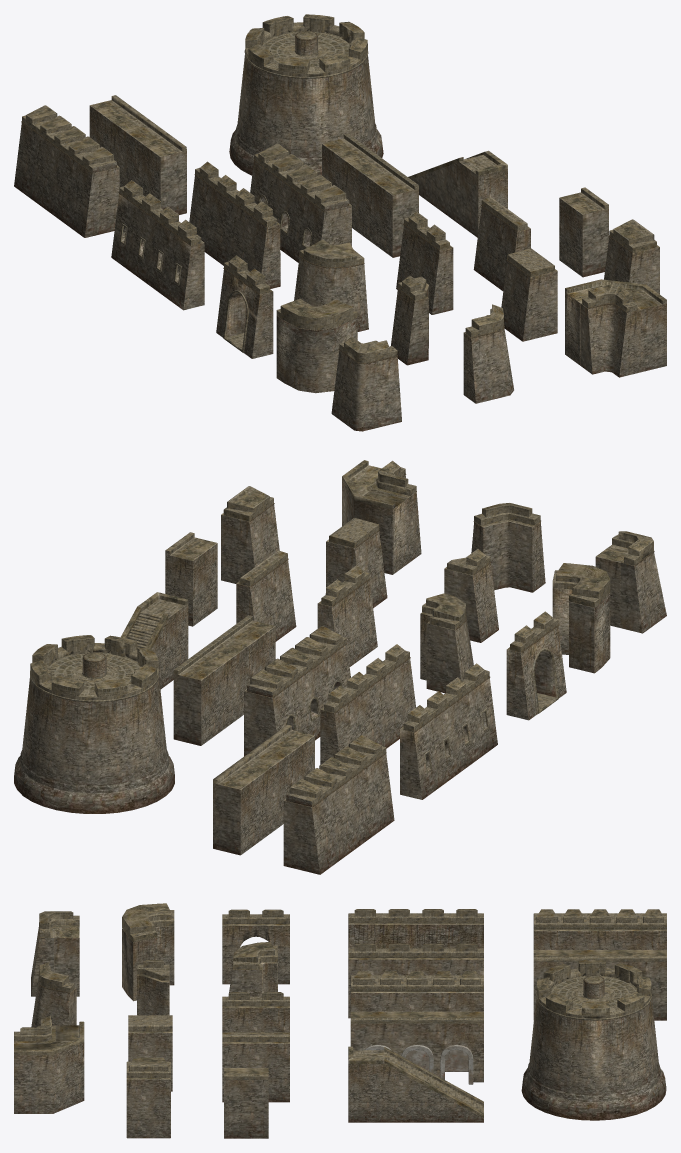
Rendered from fort.glb.
The picture shows the model from 3 angles, top to bottom: view 1: azimuth 30°, elevation 25°; view 2: azimuth 150°, elevation 25°; view 3: azimuth 270°, elevation 25°; orthographic projection. The views are drawn at different scales.
Visible parts, largest first — view 1: modular_fort_01_tower_round, modular_fort_01_wall_thick_straight_01, modular_fort_01_wall_thin_straight_02, modular_fort_01_wall_thick_straight_02, modular_fort_01_wall_thin_straight_01, modular_fort_01_wall_walkway_straight_01, modular_fort_01_wall_walkway_straight_02, modular_fort_01_wall_thick_corner_02, modular_fort_01_wall_thin_corner_02, modular_fort_01_wall_thin_corner_01, modular_fort_01_wall_stairs_straight_01, modular_fort_01_wall_thin_gate_01 (+9 smaller); view 2: modular_fort_01_tower_round, modular_fort_01_wall_thick_straight_01, modular_fort_01_wall_thin_straight_02, modular_fort_01_wall_walkway_straight_01, modular_fort_01_wall_walkway_straight_02, modular_fort_01_wall_thick_straight_02, modular_fort_01_wall_thin_straight_01, modular_fort_01_wall_thick_corner_02, modular_fort_01_wall_thin_corner_03, modular_fort_01_wall_thin_gate_01, modular_fort_01_wall_thick_corner_01, modular_fort_01_wall_thick_end_02 (+10 smaller); view 3: modular_fort_01_tower_round, modular_fort_01_wall_stairs_straight_01, modular_fort_01_wall_walkway_straight_01, modular_fort_01_wall_walkway_corner_01, modular_fort_01_wall_thick_straight_02, modular_fort_01_wall_thick_straight_01, modular_fort_01_wall_thin_straight_02, modular_fort_01_wall_thin_straight_01, modular_fort_01_wall_thick_end_02, modular_fort_01_wall_thick_corner_02, modular_fort_01_wall_walkway_straight_02, modular_fort_01_wall_thin_straight_03 (+10 smaller).
Part boxes in pixels (bbox=[...]): modular_fort_01_tower_round: bbox=[229, 14, 383, 175]; modular_fort_01_wall_thick_straight_01: bbox=[14, 105, 119, 237]; modular_fort_01_wall_thin_straight_02: bbox=[111, 180, 204, 310]; modular_fort_01_wall_thick_straight_02: bbox=[250, 143, 351, 262]; modular_fort_01_wall_thin_straight_01: bbox=[189, 161, 280, 288]; modular_fort_01_wall_walkway_straight_01: bbox=[322, 133, 418, 257]; modular_fort_01_wall_walkway_straight_02: bbox=[89, 95, 186, 214]; modular_fort_01_wall_thick_corner_02: bbox=[276, 298, 357, 393]; modular_fort_01_wall_thin_corner_02: bbox=[331, 336, 401, 431]; modular_fort_01_wall_thin_corner_01: bbox=[580, 284, 640, 377]; modular_fort_01_wall_stairs_straight_01: bbox=[408, 150, 507, 237]; modular_fort_01_wall_thin_gate_01: bbox=[216, 255, 273, 358]; modular_fort_01_tower_round: bbox=[14, 635, 174, 813]; modular_fort_01_wall_thick_straight_01: bbox=[283, 735, 394, 874]; modular_fort_01_wall_thin_straight_02: bbox=[400, 663, 497, 799]; modular_fort_01_wall_walkway_straight_01: bbox=[173, 615, 275, 745]; modular_fort_01_wall_walkway_straight_02: bbox=[213, 724, 314, 855]; modular_fort_01_wall_thick_straight_02: bbox=[244, 626, 350, 756]; modular_fort_01_wall_thin_straight_01: bbox=[320, 644, 415, 764]; modular_fort_01_wall_thick_corner_02: bbox=[552, 563, 610, 673]; modular_fort_01_wall_thin_corner_03: bbox=[471, 503, 545, 592]; modular_fort_01_wall_thin_gate_01: bbox=[506, 611, 566, 720]; modular_fort_01_wall_thick_corner_01: bbox=[420, 593, 473, 693]; modular_fort_01_wall_thick_end_02: bbox=[221, 486, 279, 583]; modular_fort_01_tower_round: bbox=[521, 960, 666, 1120]; modular_fort_01_wall_stairs_straight_01: bbox=[348, 1046, 483, 1122]; modular_fort_01_wall_walkway_straight_01: bbox=[350, 1011, 483, 1084]; modular_fort_01_wall_walkway_corner_01: bbox=[14, 1021, 84, 1113]; modular_fort_01_wall_thick_straight_02: bbox=[350, 971, 483, 1011]; modular_fort_01_wall_thick_straight_01: bbox=[533, 909, 666, 949]; modular_fort_01_wall_thin_straight_02: bbox=[348, 909, 483, 948]; modular_fort_01_wall_thin_straight_01: bbox=[348, 943, 483, 1018]; modular_fort_01_wall_thick_end_02: bbox=[126, 1057, 170, 1138]; modular_fort_01_wall_thick_corner_02: bbox=[122, 903, 174, 1001]; modular_fort_01_wall_walkway_straight_02: bbox=[533, 950, 666, 1020]; modular_fort_01_wall_thin_straight_03: bbox=[222, 1032, 289, 1102].
Bounding box in the file's own units: 42.67 × 13.67 × 71.38.
Materials: 3 (3 with a texture image).
